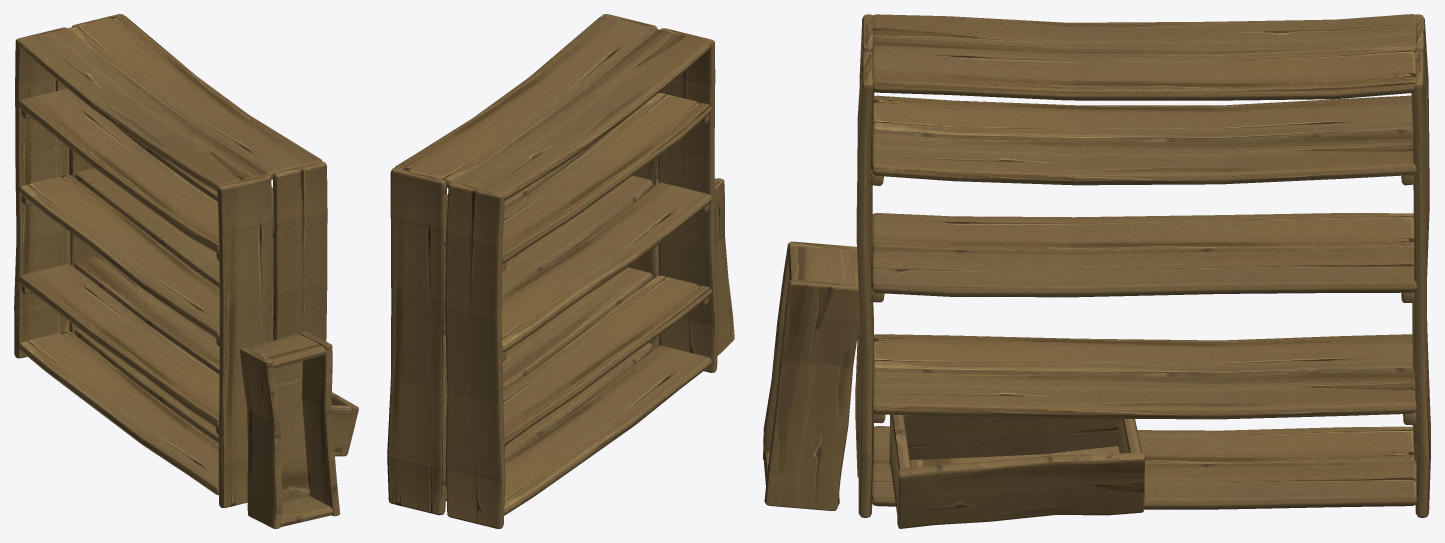
Rendered from Shelf.fbx.
3 renders of one model, left to right at view 1: azimuth 30°, elevation 25°; view 2: azimuth 150°, elevation 25°; view 3: azimuth 270°, elevation 25°, orthographic. The views are drawn at different scales.
Parts seen in each view (by area): view 1: Shelf; view 2: Shelf; view 3: Shelf.
Boxes of the visible parts, <box> form: Shelf: <box>14,14,358,528</box>; Shelf: <box>387,14,734,528</box>; Shelf: <box>763,14,1430,528</box>.
Size of the model in its own units: 92.87 by 188 by 256.
